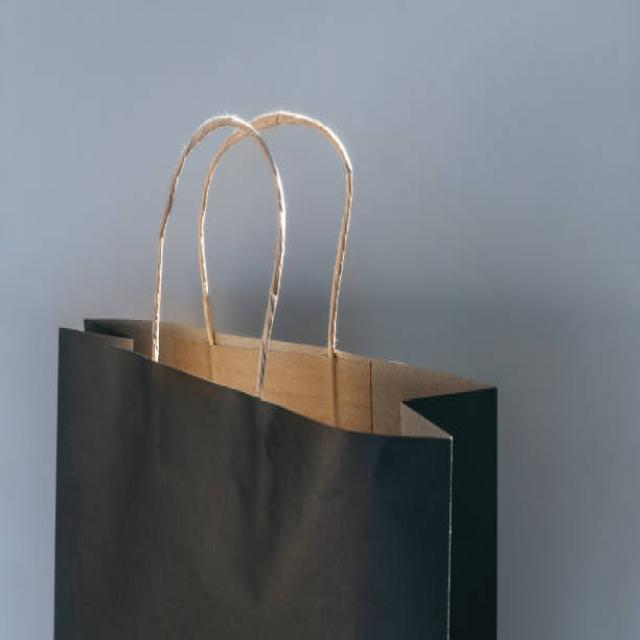electronic: (53, 318, 497, 638)
